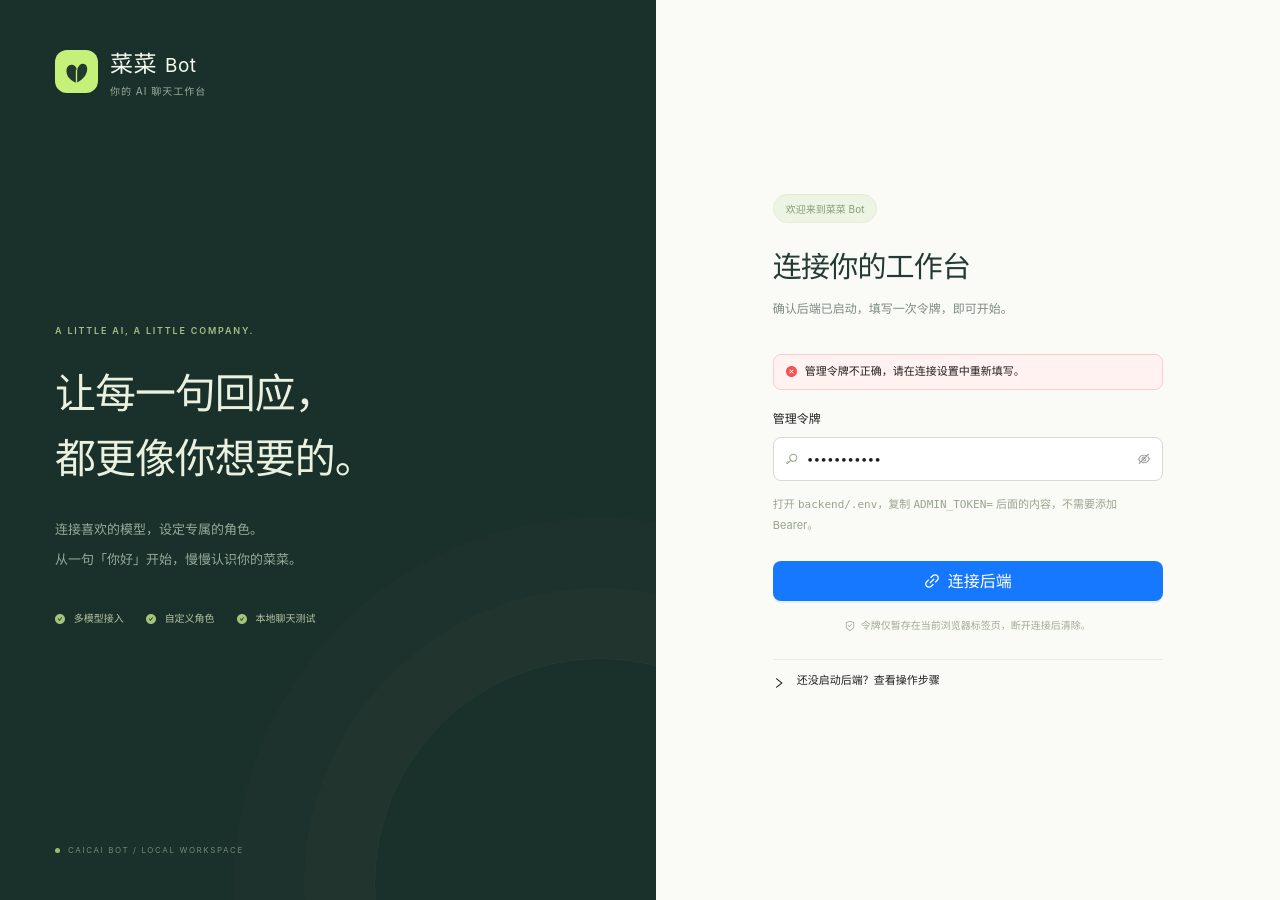
Test case: workspace session restoration › returns to the connection form on failure and allows a retry
The image size is (1280, 900).
Check: the heading "连接你的工作台" is shown, box [773,249,970,284]
Check: the text "管理令牌不正确，请在连接设置中重新填写。" is shown, box [805,364,1025,378]
Click the button "连接后端". click: [968, 581]
box: [773,561,1163,601]
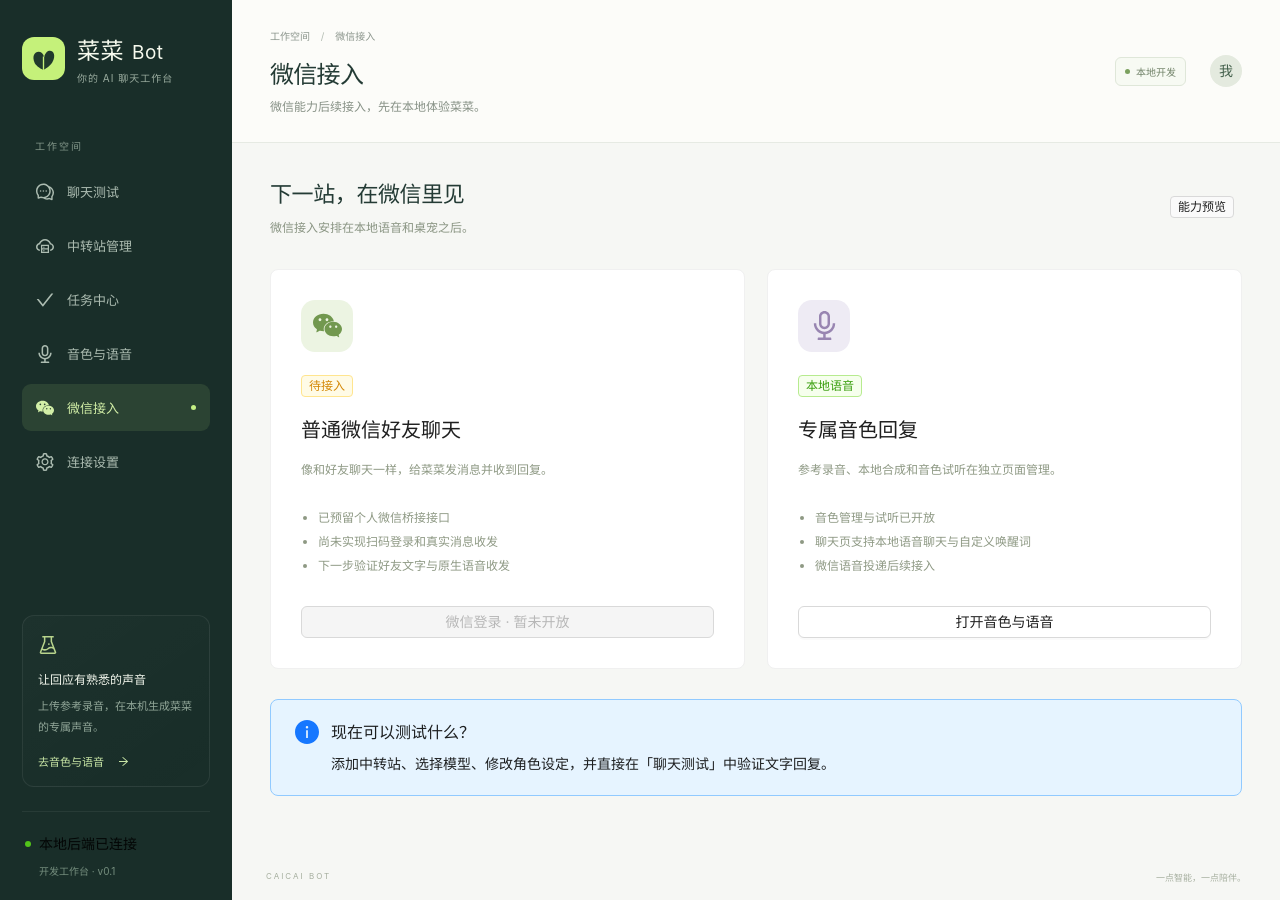
Check: the heading "微信接入" is shown, box [270,60,363,89]
